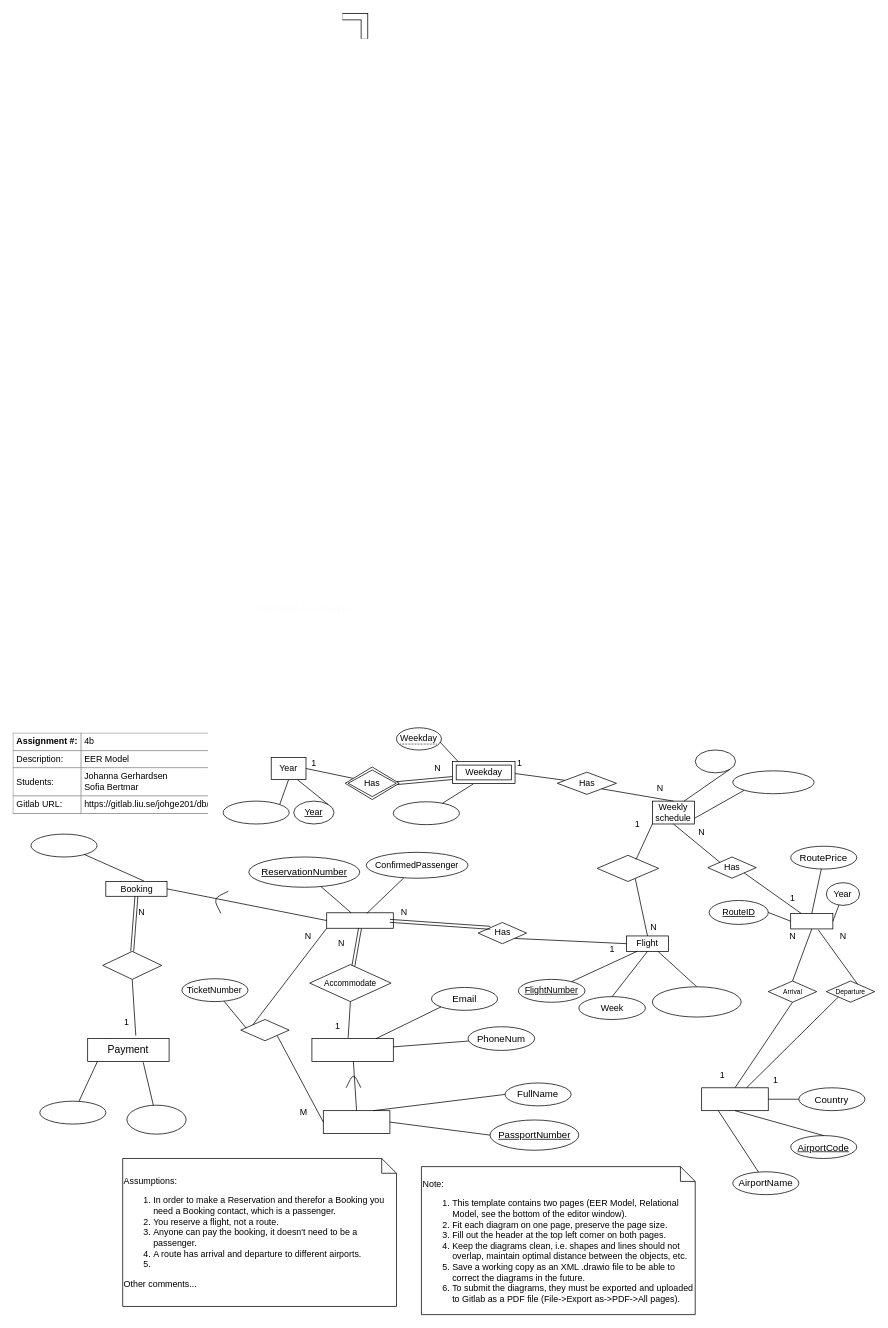
This 888x1328 diagram has some shape labels left out. Here are the shapes that lost their labels. From the top down, the centre of each, then its label:
(715,761): FlightID
(773,782): TimeOfDeparture
(255,812): ProfitFactor
(426,813): WeekdayFactor
(63,845): TotalPrice
(627,868): Instantiates
(359,920): Reservation
(811,921): Route
(132,965): Demands
(696,1001): PassengerAmount
(264,1030): Ticket
(352,1049): BookingContact
(72,1112): CardHolder
(156,1119): CardNum
(734,1099): Airport
(356,1122): Passenger
